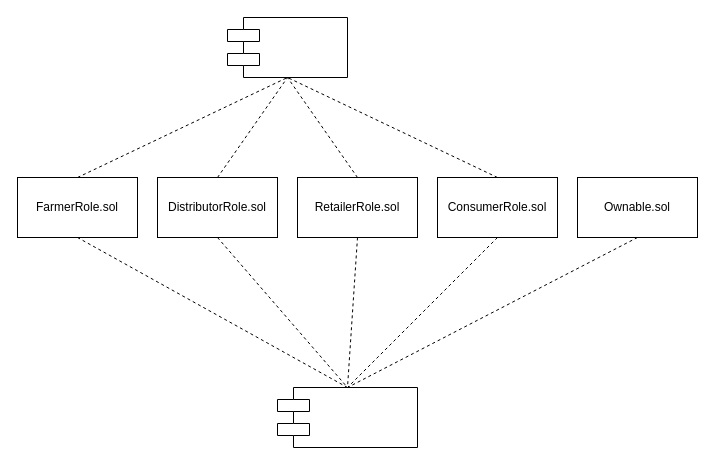
Some shapes in this 715 by 465 pixel diagram are drawn without their labels. Here are the shapes that lost their labels. From the top down, the box of each, then its label:
(226, 16, 348, 78): Roles.sol
(276, 386, 418, 448): SupplyChain.sol
